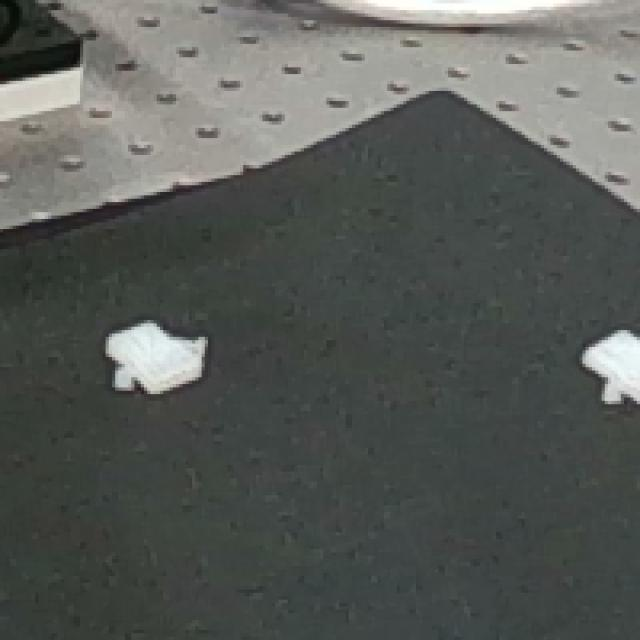pick: (96, 306, 228, 416), (563, 307, 640, 421)
